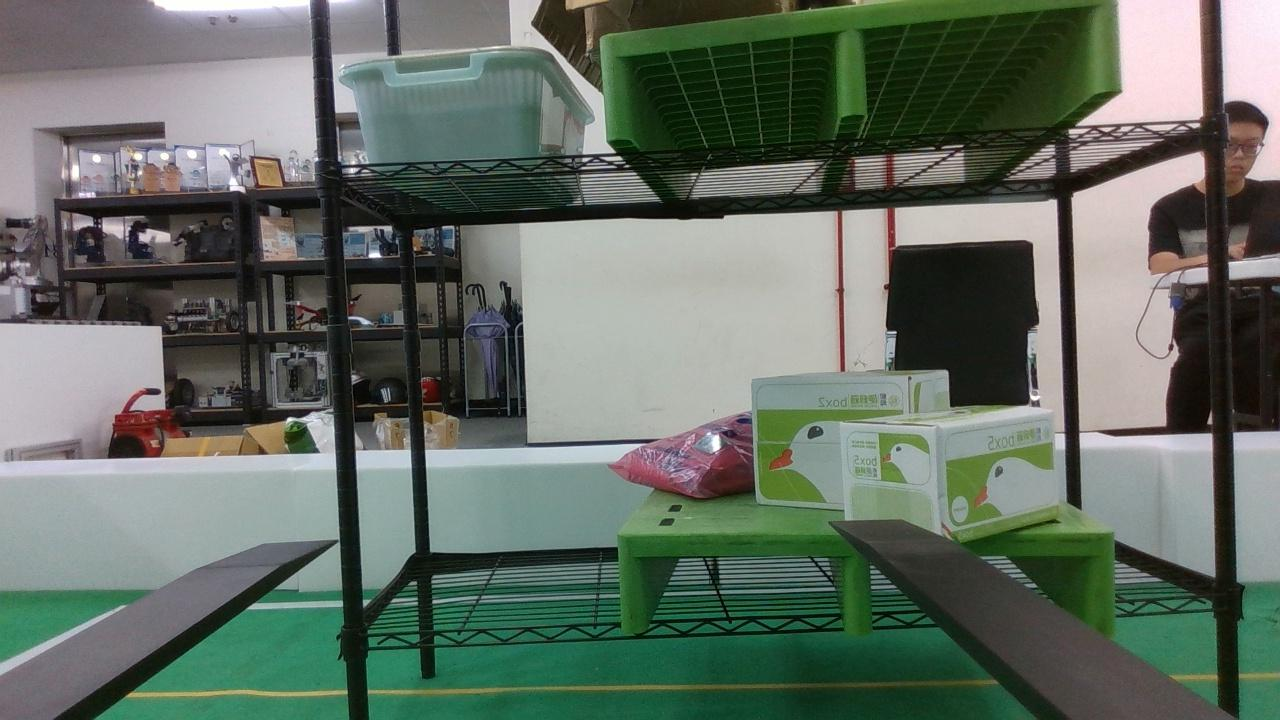Pallet: (590, 0, 1131, 148), (615, 519, 1124, 638)
